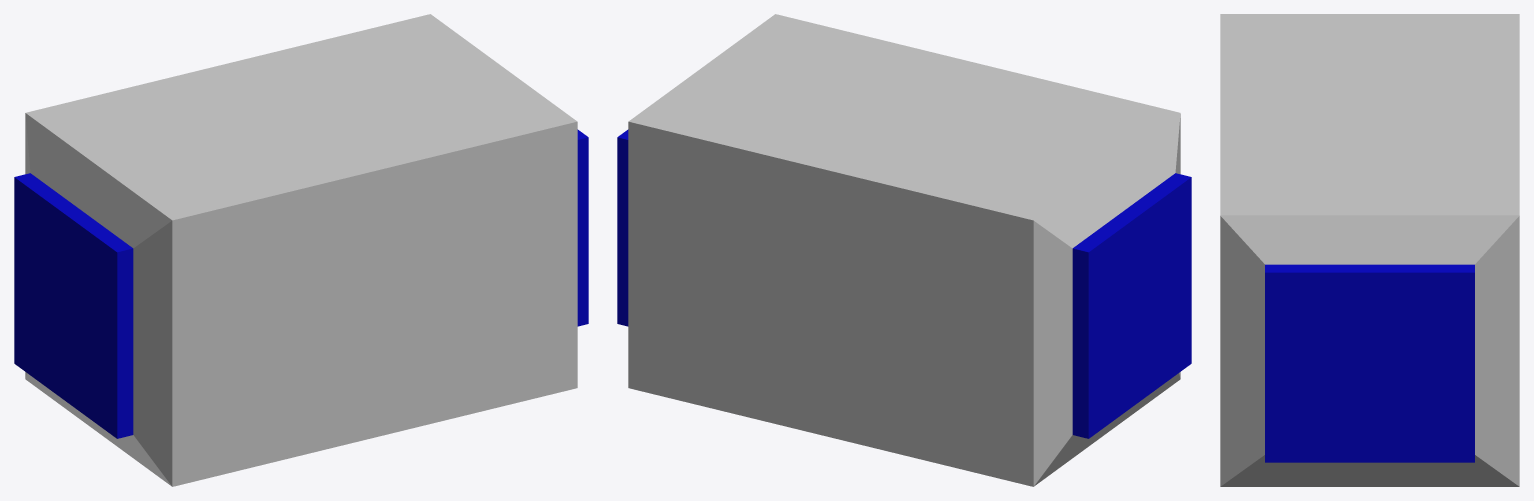
File: Station_Module.obj
The picture shows the model from 3 angles, left to right: view 1: azimuth 30°, elevation 25°; view 2: azimuth 150°, elevation 25°; view 3: azimuth 270°, elevation 25°; orthographic projection.
Parts seen in each view (by area): view 1: Cube.002_Cube.003; view 2: Cube.002_Cube.003; view 3: Cube.002_Cube.003.
Part boxes in pixels (x1=…): Cube.002_Cube.003: x1=14, y1=14, x2=588, y2=486; Cube.002_Cube.003: x1=617, y1=14, x2=1191, y2=486; Cube.002_Cube.003: x1=1220, y1=14, x2=1519, y2=486.
Bounding box in the file's own units: 2.33 × 1.26 × 1.26.
